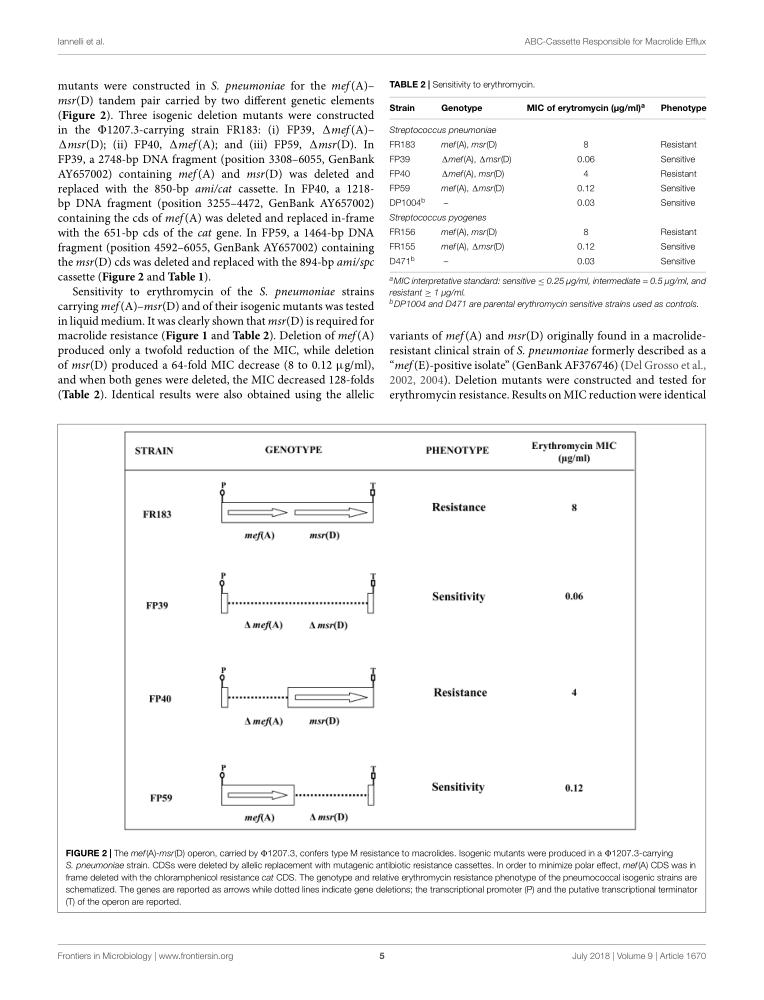table: (389, 101, 705, 266)
